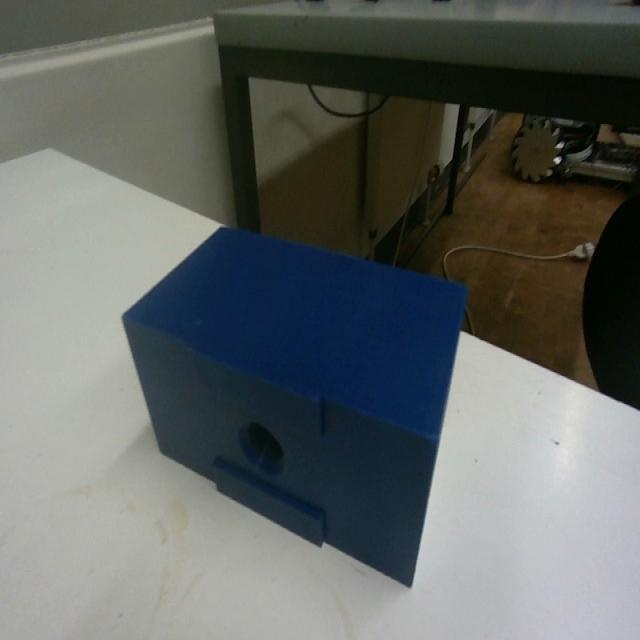Blue Cuboid: (119, 220, 469, 588)
